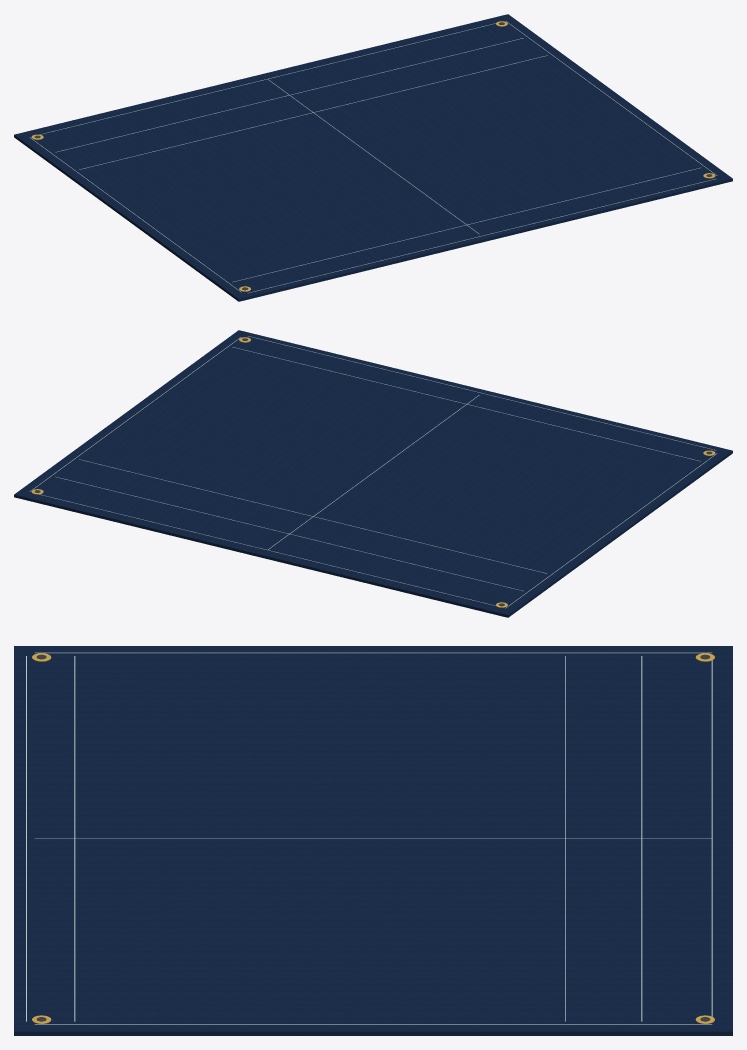
The model's file is 377_L127_PCB_Main.obj.
The picture shows the model from 3 angles, top to bottom: view 1: azimuth 30°, elevation 25°; view 2: azimuth 150°, elevation 25°; view 3: azimuth 270°, elevation 25°; orthographic projection. The views are drawn at different scales.
Visible parts, largest first — view 1: 377_L127_PCB_Main__PSMAT__pcb, 377_L127_PCB_Main__PSMAT__silkscreen; view 2: 377_L127_PCB_Main__PSMAT__pcb, 377_L127_PCB_Main__PSMAT__silkscreen; view 3: 377_L127_PCB_Main__PSMAT__pcb, 377_L127_PCB_Main__PSMAT__silkscreen.
Part boxes in pixels (x1,y1,x2,y2): 377_L127_PCB_Main__PSMAT__pcb: (14,14,732,301); 377_L127_PCB_Main__PSMAT__silkscreen: (29,21,717,293); 377_L127_PCB_Main__PSMAT__pcb: (14,330,732,617); 377_L127_PCB_Main__PSMAT__silkscreen: (29,336,717,608); 377_L127_PCB_Main__PSMAT__pcb: (14,646,732,1035); 377_L127_PCB_Main__PSMAT__silkscreen: (26,652,712,1024).
Bounding box in the file's own units: 0.66 × 0.0041 × 0.52.
4 materials, 4 textured.
